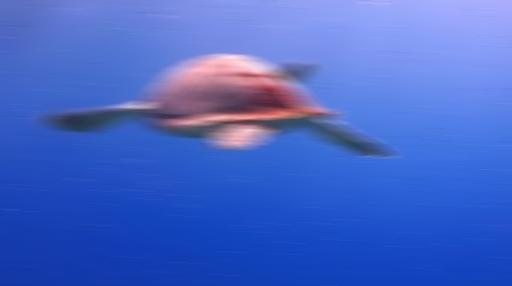Fish: (41, 54, 388, 156)
